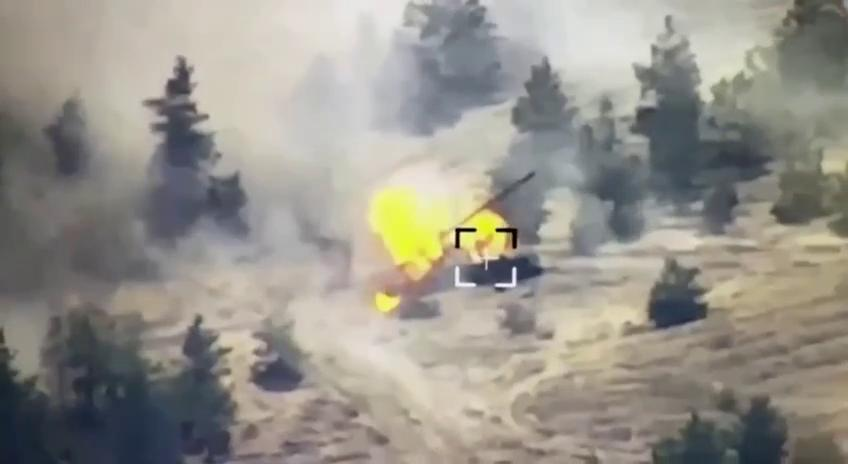tank: (364, 167, 547, 295)
